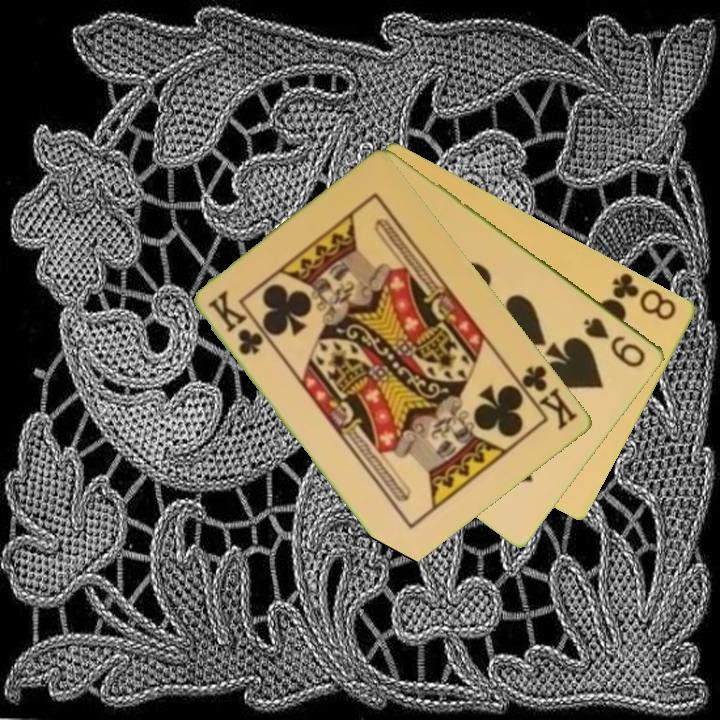8c: (609, 269, 680, 323)
9s: (580, 313, 649, 371)
Kc: (510, 361, 581, 433), (205, 287, 267, 359)
